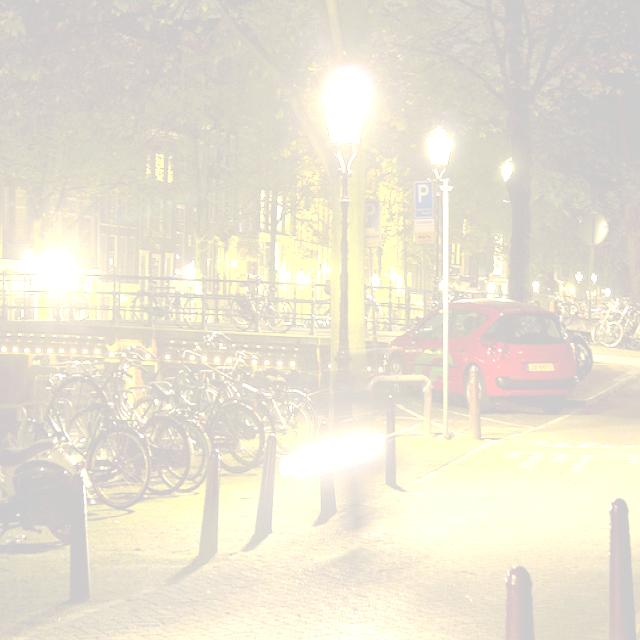Car: (385, 296, 578, 408)
